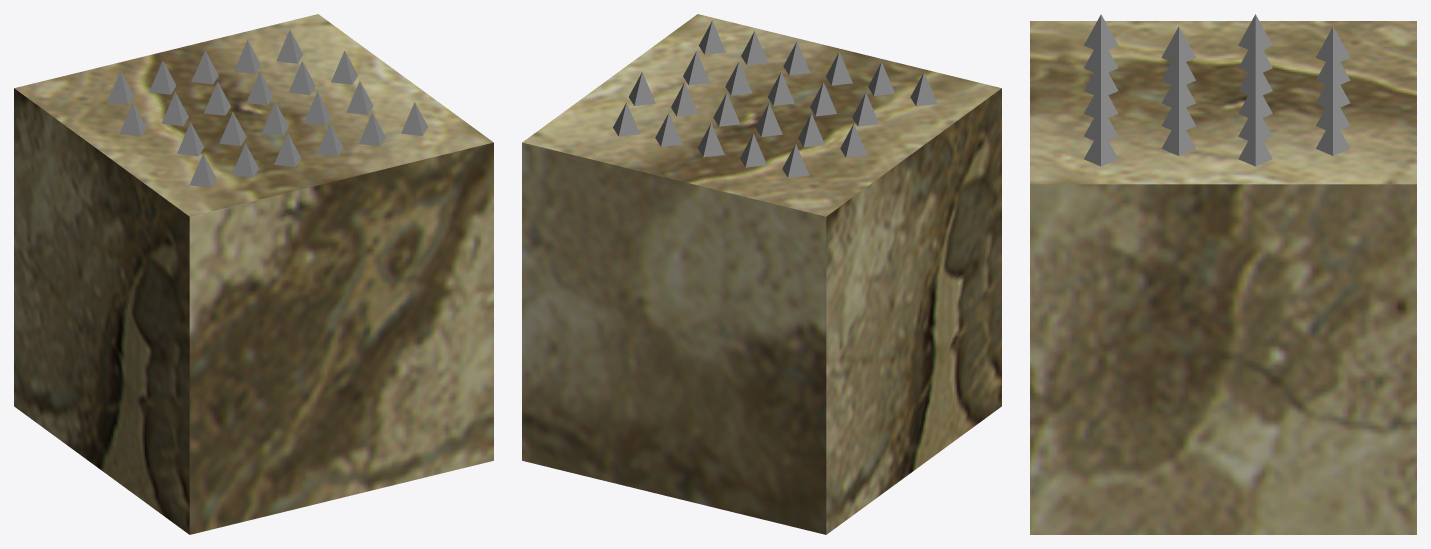
The model's file is Size_2_Hazard.fbx.
The picture shows the model from 3 angles, left to right: view 1: azimuth 30°, elevation 25°; view 2: azimuth 150°, elevation 25°; view 3: azimuth 270°, elevation 25°; orthographic projection. The views are drawn at different scales.
Visible parts, largest first — view 1: Spike_Floor, Spike_Floor.001; view 2: Spike_Floor, Spike_Floor.001; view 3: Spike_Floor, Spike_Floor.001.
Part boxes in pixels (left/top/right/bottom): Spike_Floor: left=14, top=14, right=493, bottom=534; Spike_Floor.001: left=107, top=29, right=427, bottom=187; Spike_Floor: left=522, top=14, right=1001, bottom=534; Spike_Floor.001: left=613, top=20, right=937, bottom=177; Spike_Floor: left=1030, top=21, right=1416, bottom=534; Spike_Floor.001: left=1084, top=14, right=1350, bottom=166.
Size of the model in its own units: 100 by 100 by 109.
